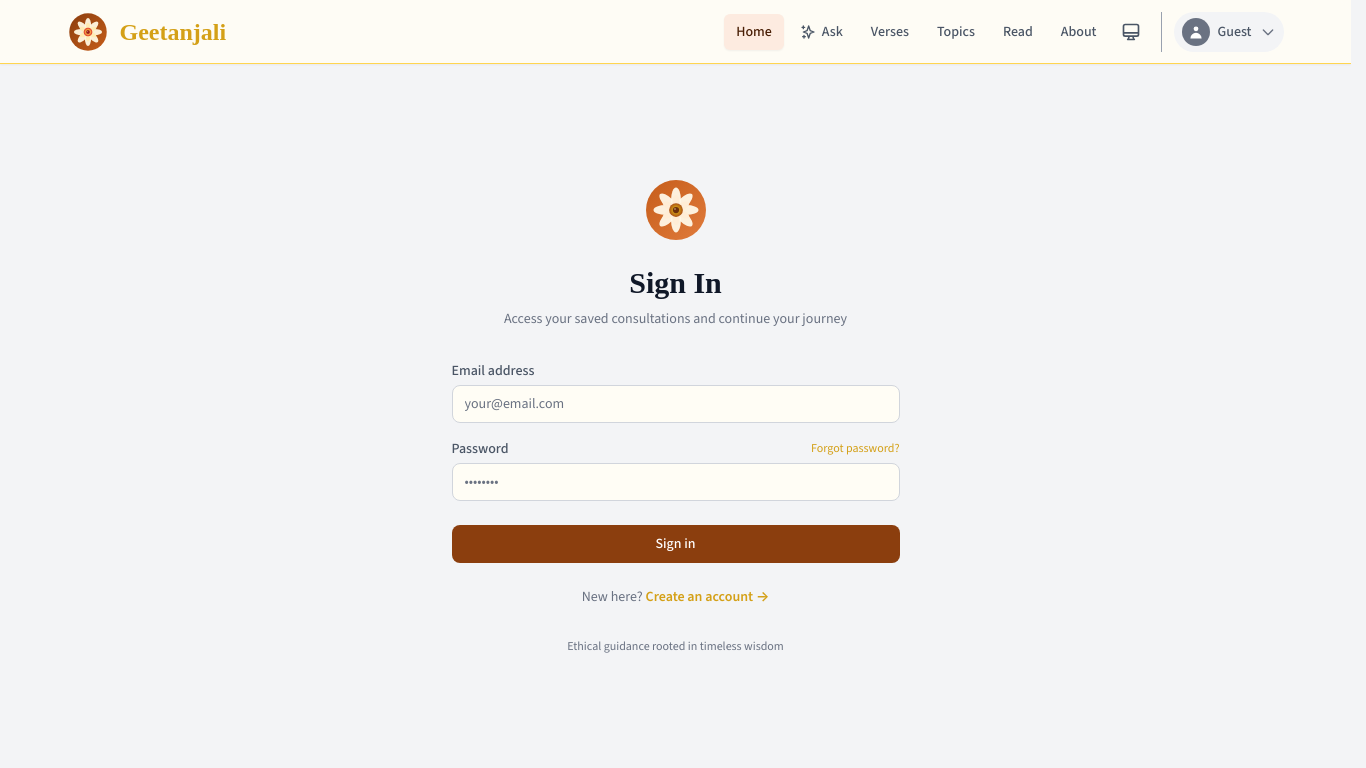
Scenario: Login Page › should show error message on login failure
The image size is (1366, 768).
Type "test@example.com" into the field labelled "Email address" at (676, 404), box [452,384,900,422]
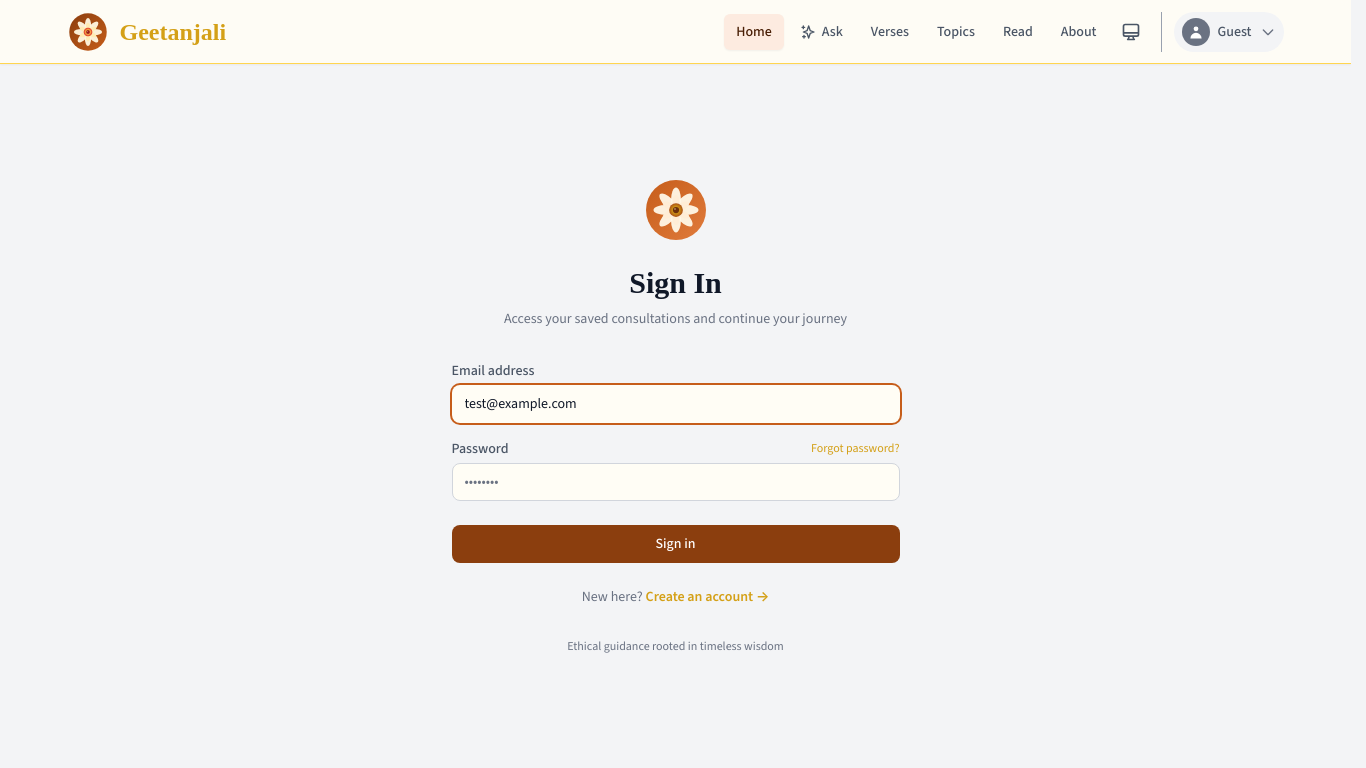
Type "wrong" into the password field labelled "Password" at (676, 482), box [452,462,900,500]
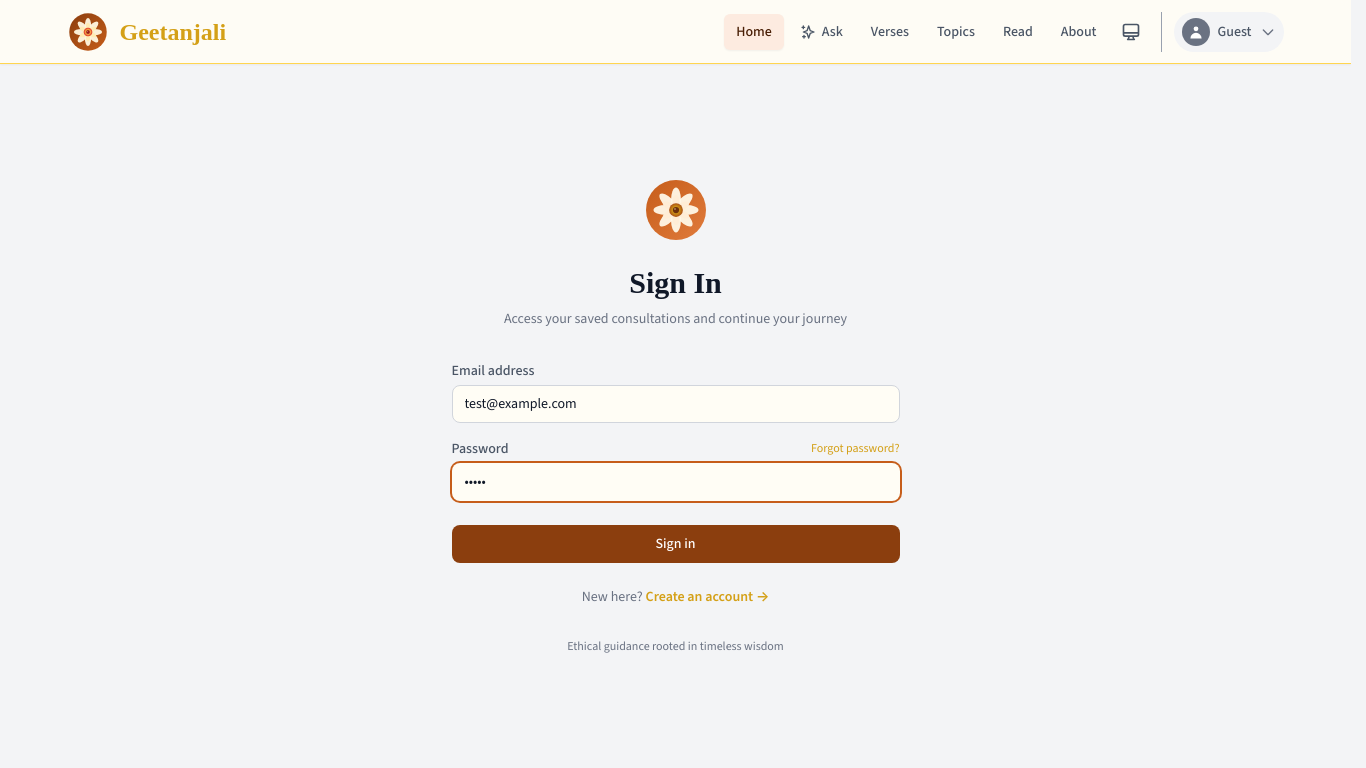
Click the button "Sign in" at (676, 544), box [452,524,900,562]
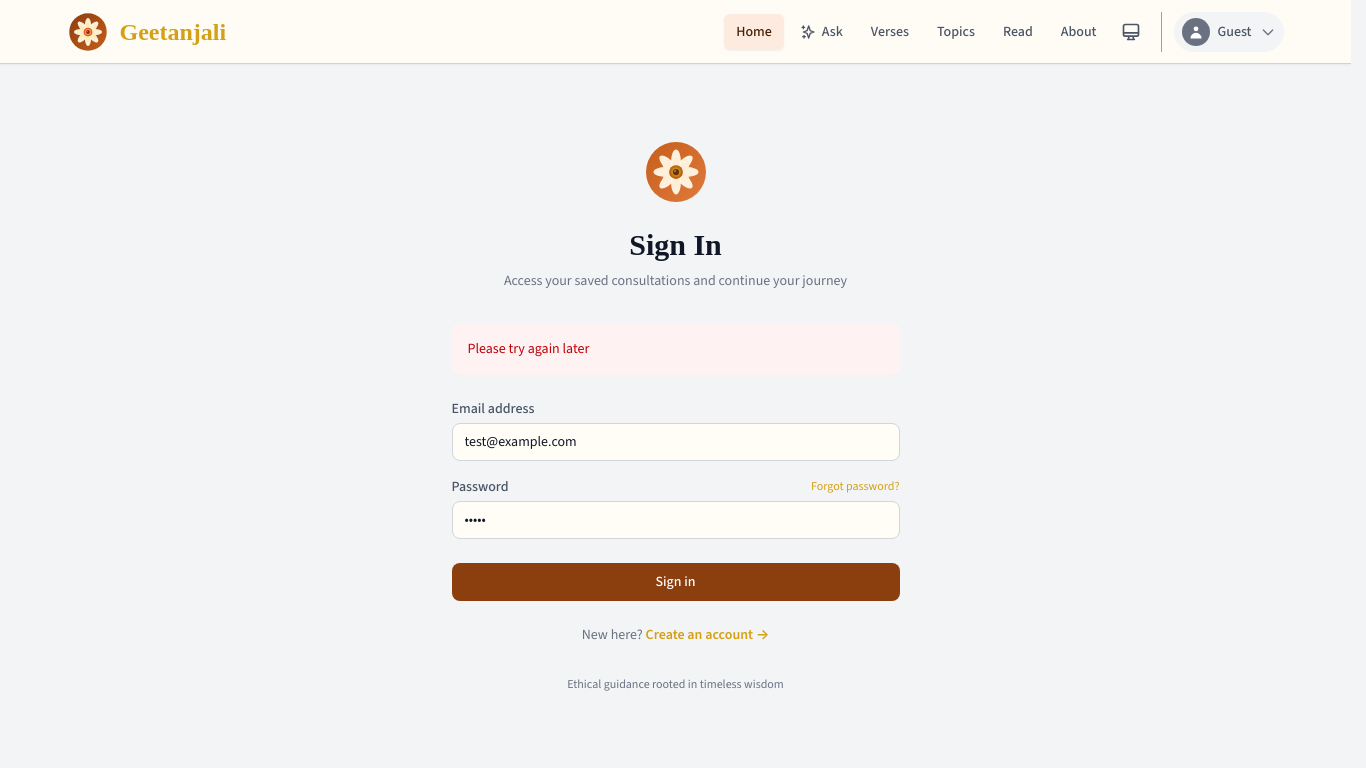
Result: the text "Please try again later" is shown at [468,338,589,358]
